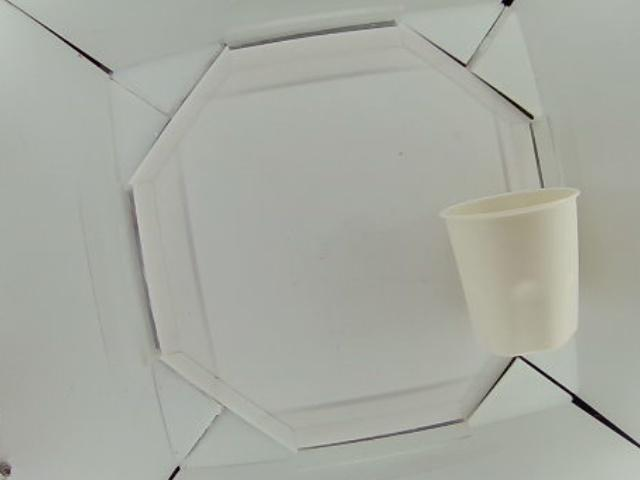Cup: (440, 184, 582, 356)
